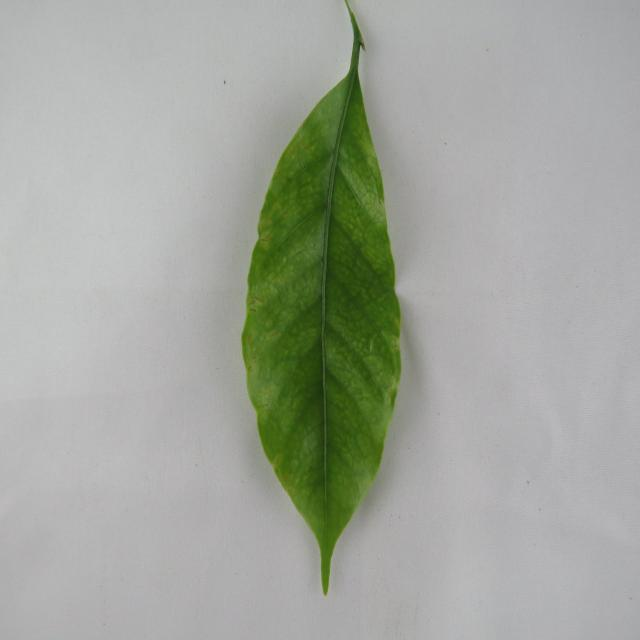DeficienciaNutricional-Manganeso: (242, 5, 401, 593)
